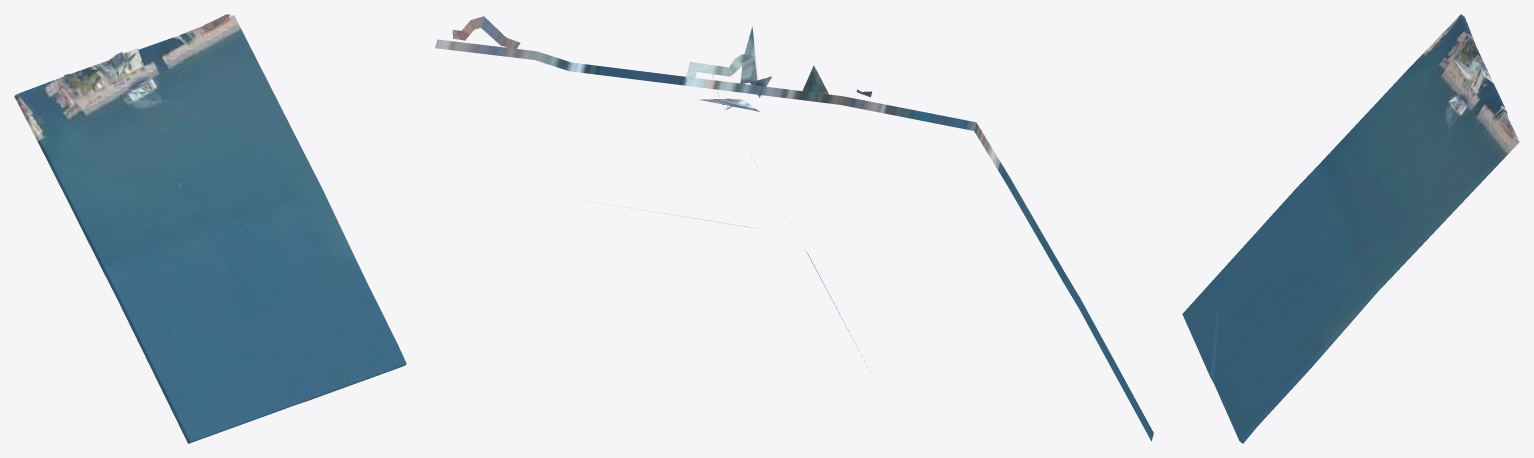
Rendered from AJVsH2xBuJxkn_yv9p9K16cWrnc9_oRrVutAwXWHge1VHtLoOM3zxzApy8T-nX4lkU7N5-2x1qTeNGSmn5rgxNdEnJlRznTfDuTQ8NibvDO2exZ_uoDS_AAZKx3cHyqWdxEMg4pBsKxbp8ymjqdMHtqwX6ChnPqJJg.glb.
3 views of the same model, side by side, from view 1: azimuth 30°, elevation 25°; view 2: azimuth 150°, elevation 25°; view 3: azimuth 270°, elevation 25° (orthographic). The views are drawn at different scales.
Bounding box in the file's own units: 256 × 242 × 247.
1 material, 1 textured.
